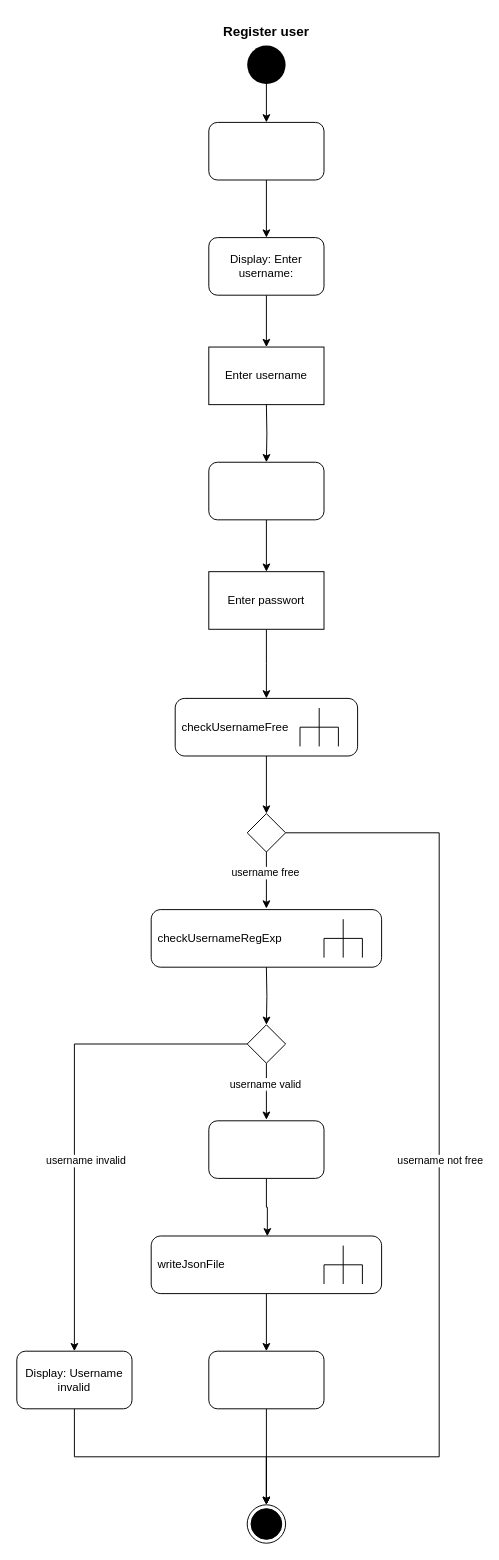
This 499x1560 diagram has some shape labels left out. The shapes that lost their labels are listed below. From the top down, each one's centre as x and y in pixels, then its label:
(x=266, y=150): click on register
(x=266, y=490): Display: Enter password:
(x=266, y=1149): create userObject
(x=266, y=1379): Display: Registration successful
